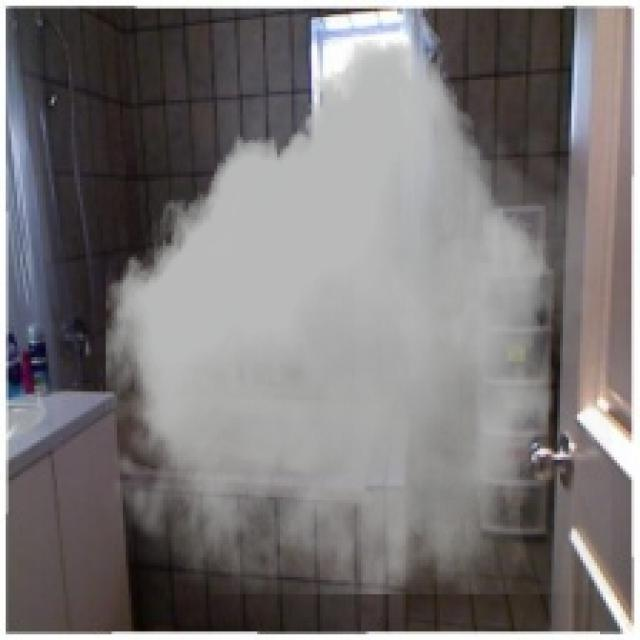Smoke: (97, 39, 612, 594)
